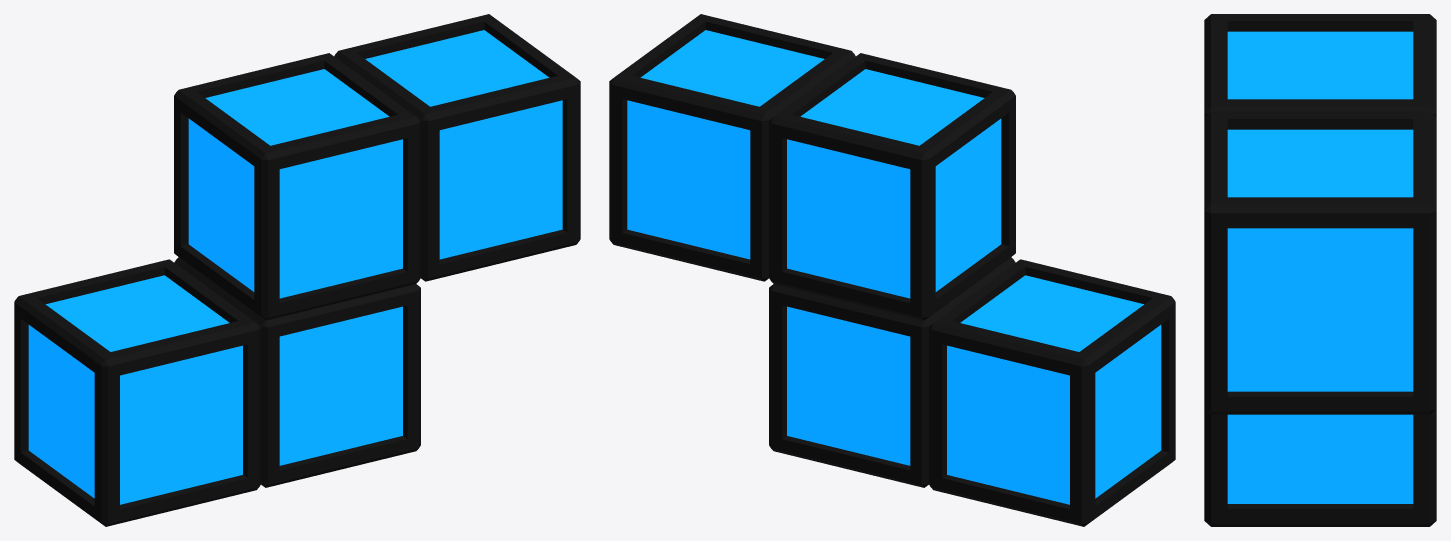
Rendered from ZBlockSolid.fbx.
The picture shows the model from 3 angles, left to right: view 1: azimuth 30°, elevation 25°; view 2: azimuth 150°, elevation 25°; view 3: azimuth 270°, elevation 25°; orthographic projection. The views are drawn at different scales.
Parts seen in each view (by area): view 1: ZBlock; view 2: ZBlock; view 3: ZBlock.
Part boxes in pixels (bbox=[...]): ZBlock: bbox=[14, 14, 580, 526]; ZBlock: bbox=[609, 14, 1175, 526]; ZBlock: bbox=[1204, 14, 1436, 526].
Size of the model in its own units: 600 by 200 by 400.
